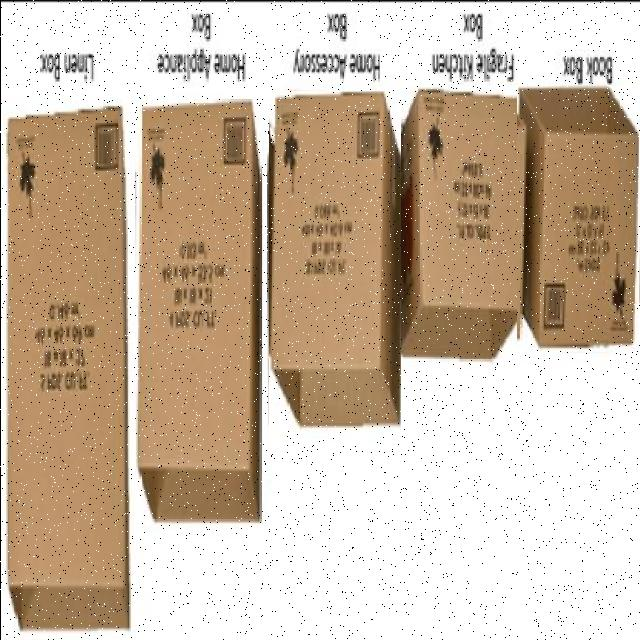normal: (0, 99, 136, 636), (134, 96, 266, 526), (268, 91, 400, 431), (397, 85, 523, 369), (516, 85, 638, 352)
